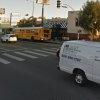Bus: (9, 24, 52, 41)
